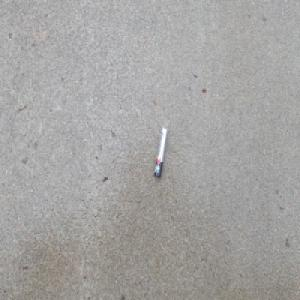Battery: (153, 125, 167, 179)
